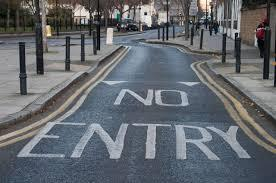Bump: (83, 84, 245, 111)
